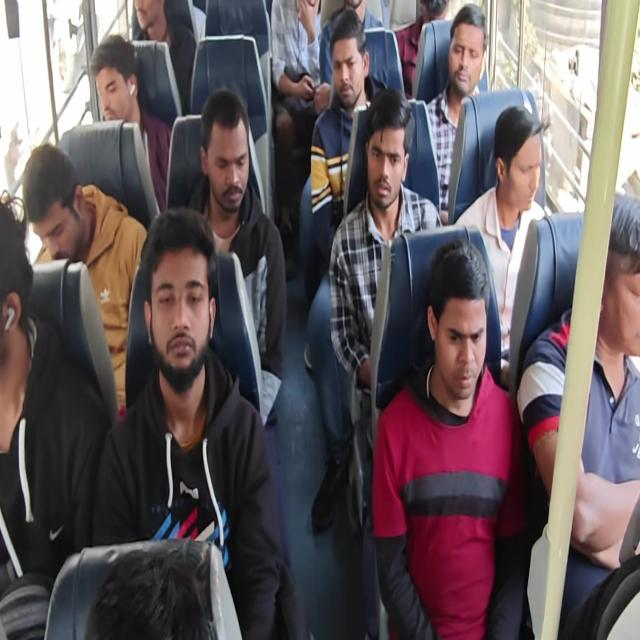person: (135, 225, 220, 377), (101, 543, 228, 640), (425, 272, 493, 408), (31, 154, 110, 266), (203, 74, 262, 213), (0, 184, 35, 397), (597, 192, 640, 346), (496, 116, 546, 226), (361, 118, 416, 217), (90, 46, 146, 129), (446, 0, 485, 107), (332, 33, 372, 106), (412, 0, 449, 39)
